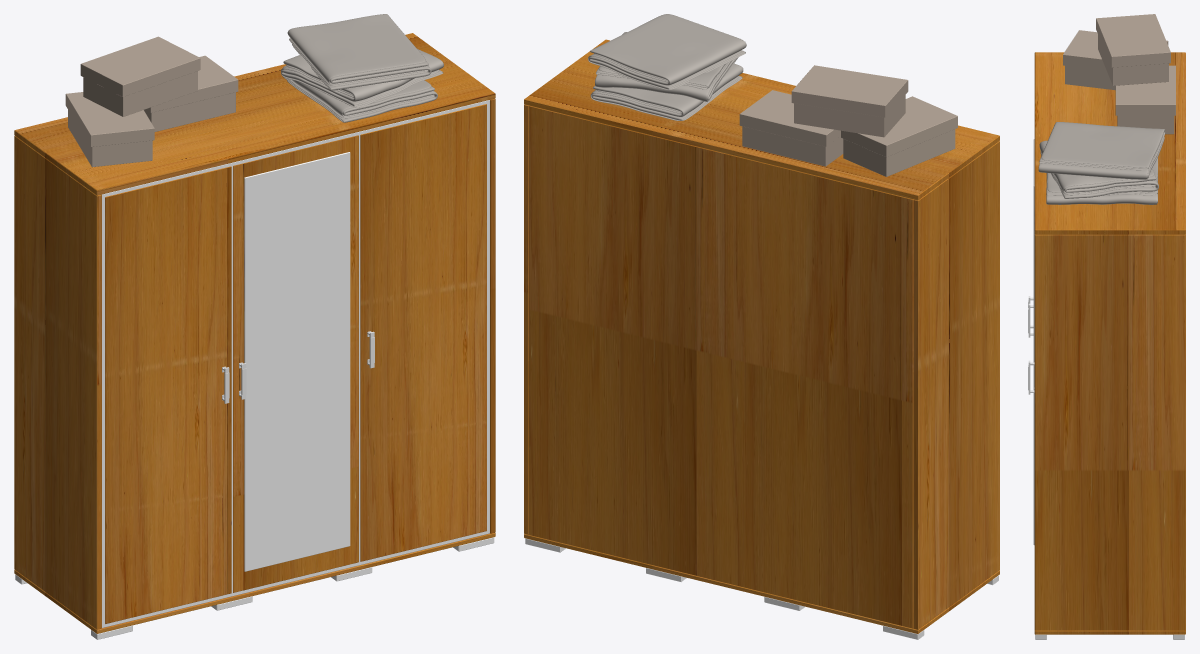
Rendered from wardrobe.glb.
3 renders of one model, left to right at view 1: azimuth 30°, elevation 25°; view 2: azimuth 150°, elevation 25°; view 3: azimuth 270°, elevation 25°, orthographic. The views are drawn at different scales.
Visible parts, largest first — view 1: WoodFurniture_0003, Mirror_0002, Boxes, StainlessSmooth_0002, Blankets_0002, Blankets_0001, Blankets_0003, Aluminium_0001; view 2: WoodFurniture_0003, Boxes, Blankets_0002, Blankets_0003, Blankets_0001, StainlessSmooth_0002; view 3: WoodFurniture_0003, Boxes, Blankets_0002, Blankets_0001, Blankets_0003, Mirror_0002, Aluminium_0001.
Boxes of the visible parts, <box> form: WoodFurniture_0003: <box>14,33,495,633</box>; Mirror_0002: <box>244,152,350,571</box>; Boxes: <box>65,36,238,167</box>; StainlessSmooth_0002: <box>15,100,494,639</box>; Blankets_0002: <box>287,14,431,90</box>; Blankets_0001: <box>281,49,443,107</box>; Blankets_0003: <box>282,65,437,122</box>; Aluminium_0001: <box>222,331,374,403</box>; WoodFurniture_0003: <box>524,39,999,633</box>; Boxes: <box>739,65,957,176</box>; Blankets_0002: <box>588,14,746,89</box>; Blankets_0003: <box>590,63,743,120</box>; Blankets_0001: <box>595,32,738,101</box>; StainlessSmooth_0002: <box>525,538,998,639</box>; WoodFurniture_0003: <box>1034,52,1185,634</box>; Boxes: <box>1063,14,1175,134</box>; Blankets_0002: <box>1038,122,1165,179</box>; Blankets_0001: <box>1039,140,1158,198</box>; Blankets_0003: <box>1046,158,1157,204</box>; Mirror_0002: <box>1033,139,1034,545</box>; Aluminium_0001: <box>1028,296,1034,394</box>.
Size of the model in its own units: 1.73 by 2.14 by 0.6491.
Materials: 2 (2 with a texture image).
